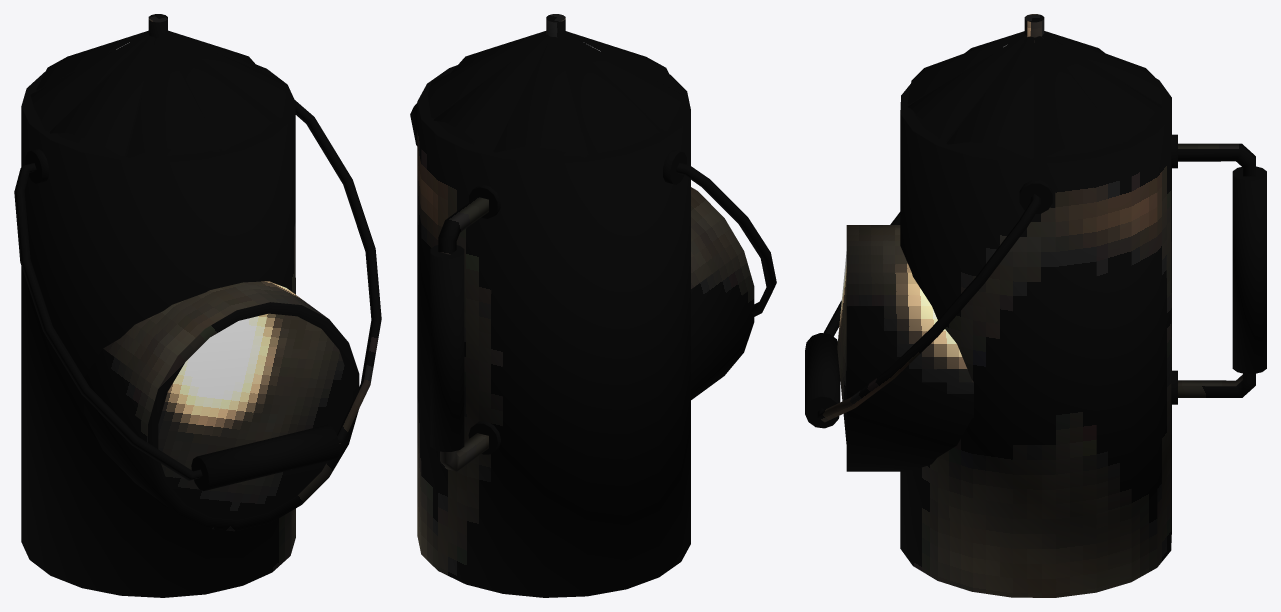
Rendered from bullseye_lantern_item.dae.
The picture shows the model from 3 angles, left to right: view 1: azimuth 30°, elevation 25°; view 2: azimuth 150°, elevation 25°; view 3: azimuth 270°, elevation 25°; orthographic projection.
Parts seen in each view (by area): view 1: Lantern; view 2: Lantern; view 3: Lantern.
Part boxes in pixels (x1,y1,x2,y2): Lantern: (14, 14, 381, 597); Lantern: (410, 14, 776, 597); Lantern: (805, 14, 1266, 597).
Size of the model in its own units: 0.2766 by 0.3368 by 0.42.
